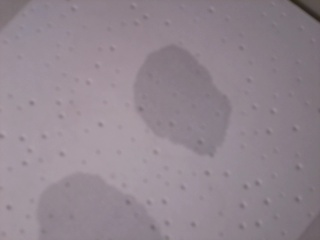Water_detected: (130, 51, 211, 136), (55, 179, 151, 240)
